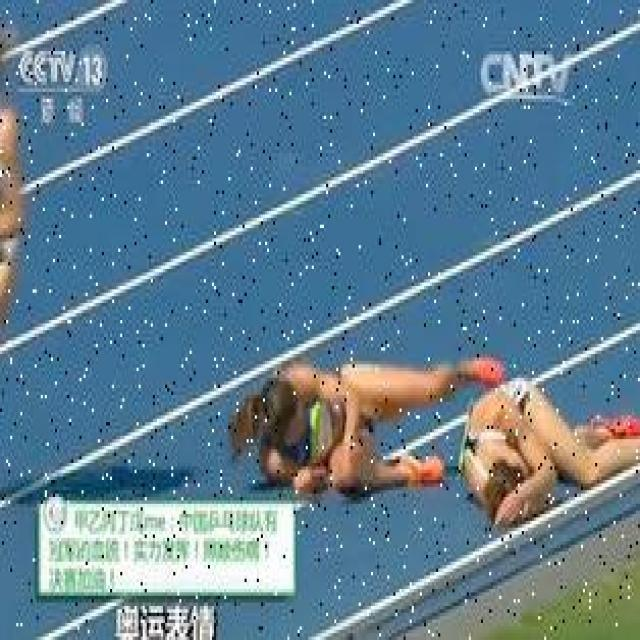fall: (234, 334, 465, 494), (462, 374, 638, 538)
